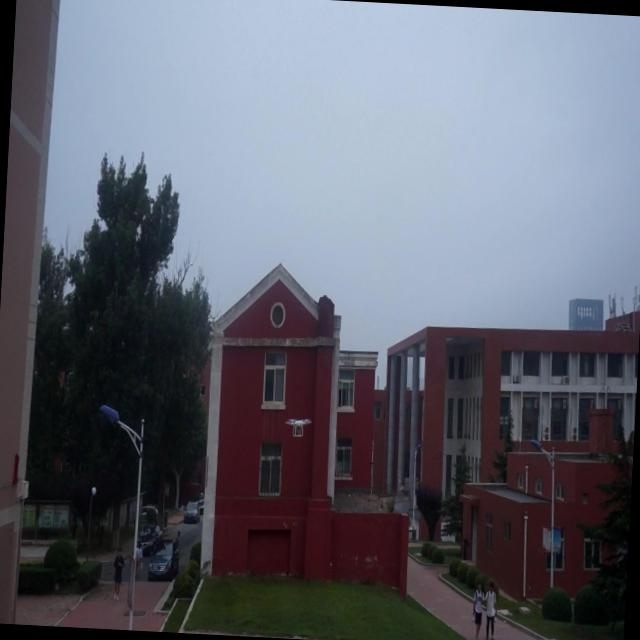drone: (283, 412, 313, 441)
